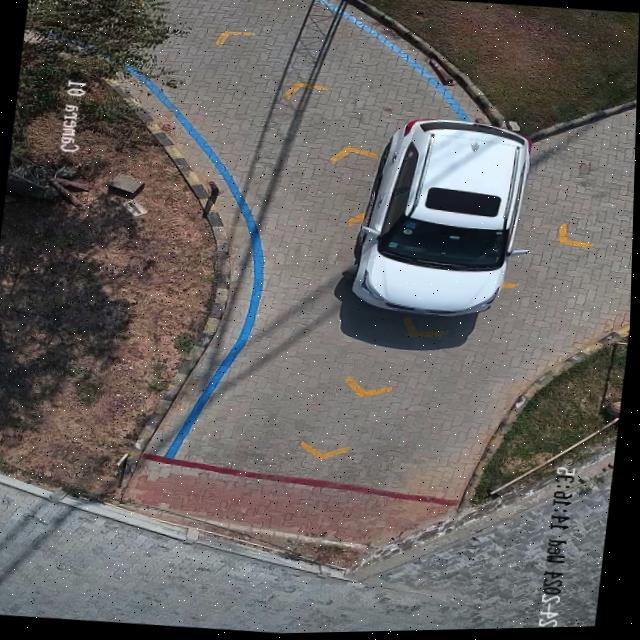car: (353, 121, 531, 318)
